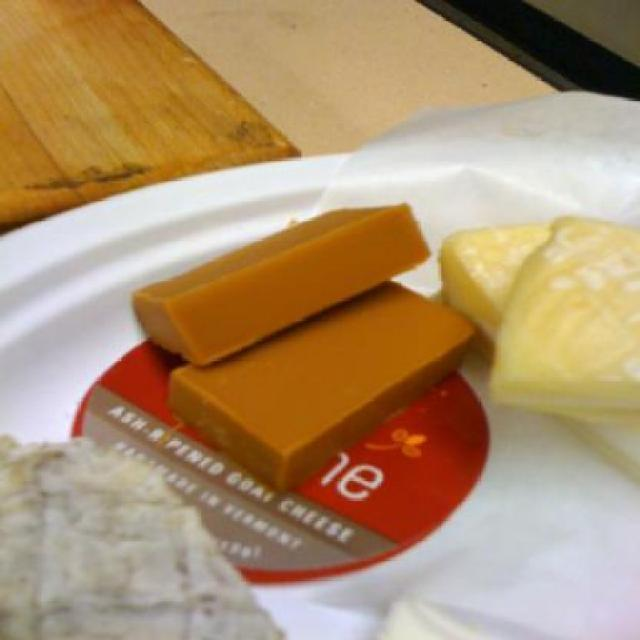Cheese: (438, 221, 639, 476), (486, 208, 640, 428)
